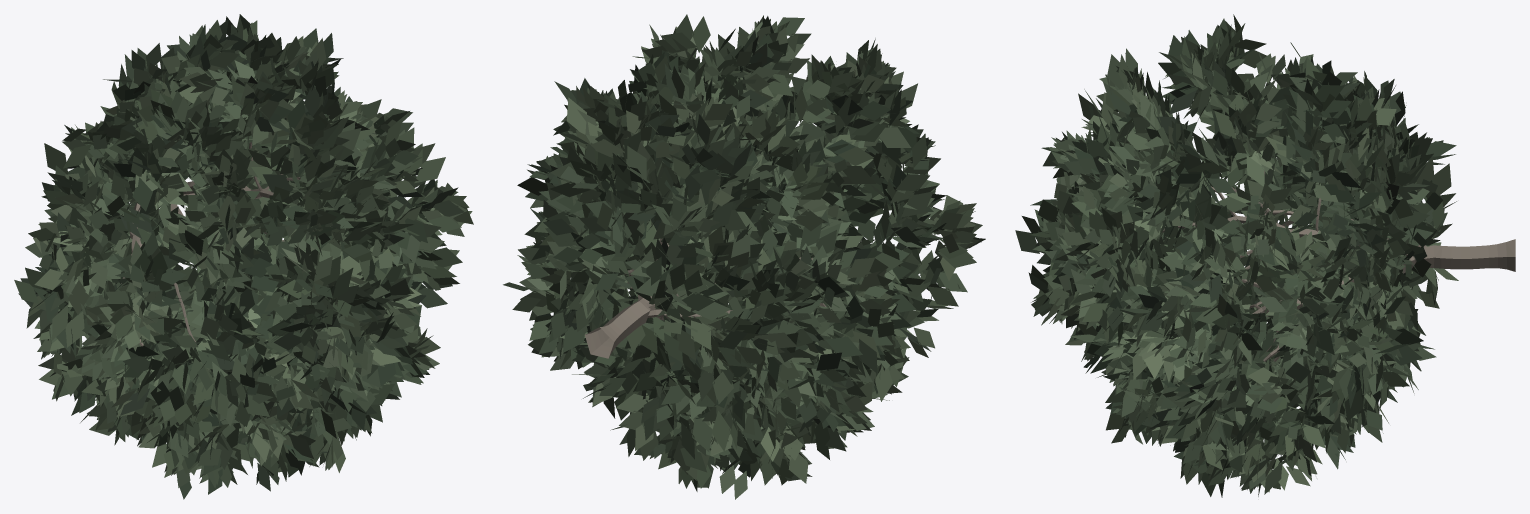
Rendered from tree_mid_00.obj.
3 views of the same model, side by side, from view 1: azimuth 30°, elevation 25°; view 2: azimuth 150°, elevation 25°; view 3: azimuth 270°, elevation 25° (orthographic). The views are drawn at different scales.
Visible parts, largest first — view 1: tree_mid_00; view 2: tree_mid_00; view 3: tree_mid_00.
Boxes of the visible parts, box(x1,y1,x2,y2) form: tree_mid_00: box(14, 14, 473, 499); tree_mid_00: box(503, 14, 985, 499); tree_mid_00: box(1015, 14, 1515, 497).
Size of the model in its own units: 0.9441 by 0.97 by 1.03.
Materials: 1 (1 with a texture image).
